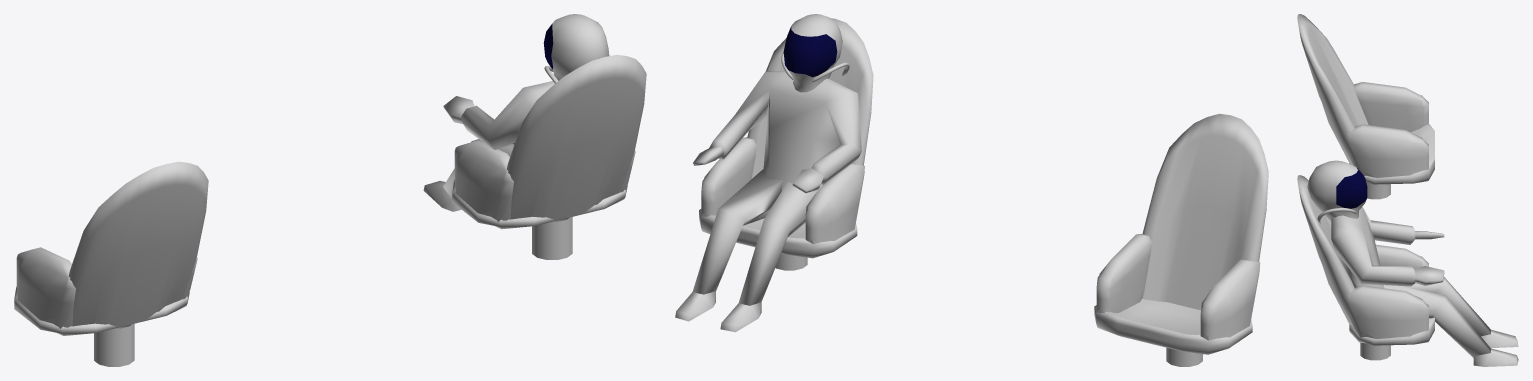
Rendered from pilot_m.dae.
The picture shows the model from 3 angles, left to right: view 1: azimuth 30°, elevation 25°; view 2: azimuth 150°, elevation 25°; view 3: azimuth 270°, elevation 25°; orthographic projection. The views are drawn at different scales.
Visible parts, largest first — view 1: pilot_m; view 2: pilot_m; view 3: pilot_m.
Part boxes in pixels (<box>): pilot_m: <box>14,14,646,366</box>; pilot_m: <box>675,14,1268,366</box>; pilot_m: <box>1297,14,1518,366</box>.
Bounding box in the file's own units: 3.22 × 1.39 × 1.32.
